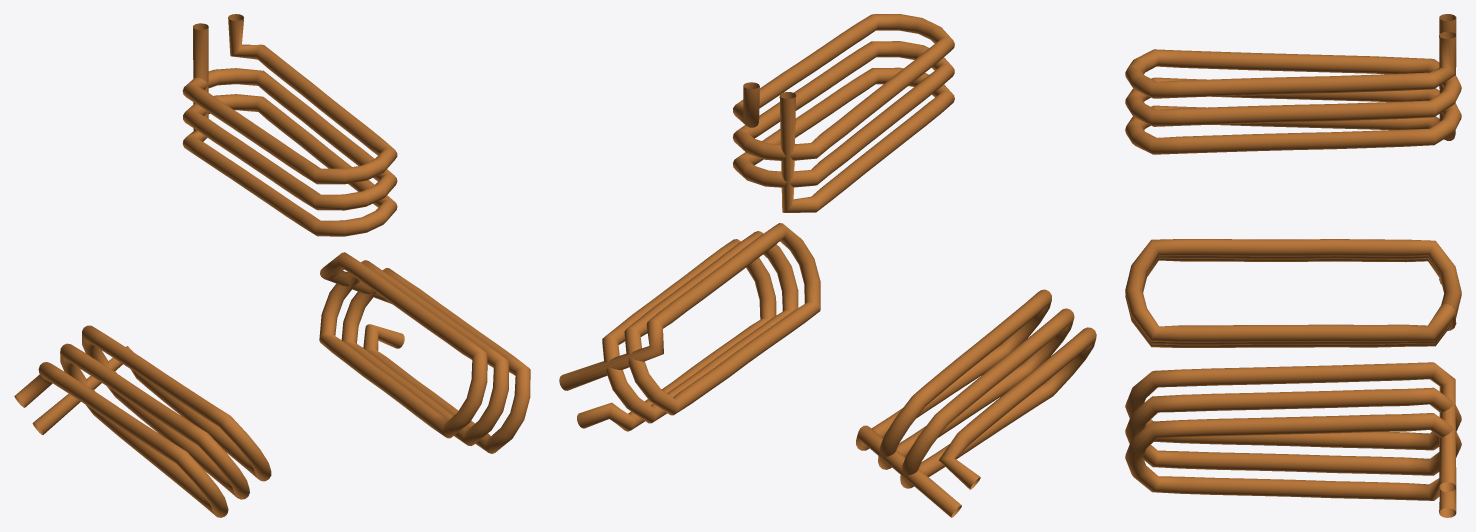
The model's file is DCblCoil9.glb.
3 renders of one model, left to right at view 1: azimuth 30°, elevation 25°; view 2: azimuth 150°, elevation 25°; view 3: azimuth 270°, elevation 25°, orthographic. The views are drawn at different scales.
Parts seen in each view (by area): view 1: Spiral.004, Spiral.002, Spiral.001; view 2: Spiral.004, Spiral.002, Spiral.001; view 3: Spiral.001, Spiral.004, Spiral.002.
Part boxes in pixels (x1,y1,x2,y2): Spiral.004: (182, 14, 397, 236); Spiral.002: (14, 325, 271, 517); Spiral.001: (319, 252, 530, 453); Spiral.004: (732, 14, 954, 212); Spiral.002: (856, 289, 1096, 517); Spiral.001: (559, 223, 820, 431); Spiral.001: (1125, 362, 1461, 517); Spiral.004: (1125, 14, 1461, 154); Spiral.002: (1125, 239, 1461, 347).
Size of the model in its own units: 6.92 by 6.06 by 4.64.
